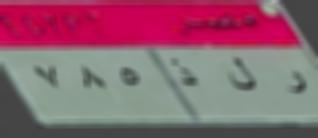5: (116, 63, 141, 92)
7: (32, 60, 62, 95)
8: (76, 64, 109, 96)
laam: (222, 49, 259, 97)
raa: (282, 68, 310, 97)
zaal: (168, 55, 199, 93)
